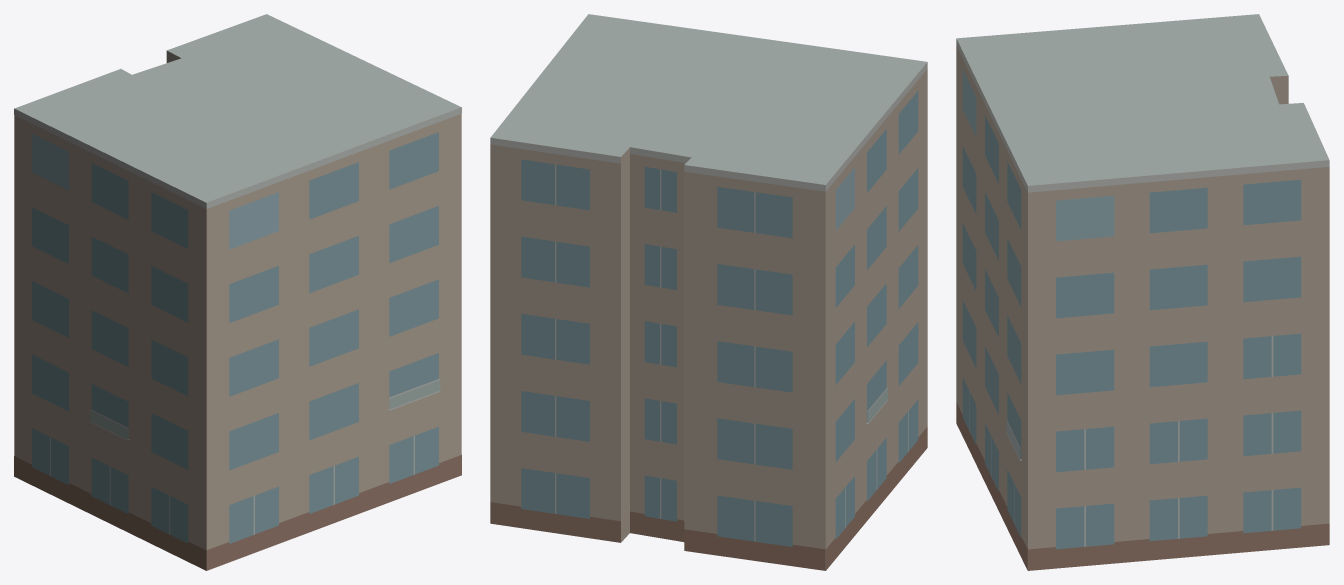
The model's file is survey-upis-32705560.glb.
The picture shows the model from 3 angles, left to right: view 1: azimuth 30°, elevation 25°; view 2: azimuth 150°, elevation 25°; view 3: azimuth 270°, elevation 25°; orthographic projection. The views are drawn at different scales.
Parts seen in each view (by area): view 1: survey-upis-32705560.tmp; view 2: survey-upis-32705560.tmp; view 3: survey-upis-32705560.tmp.
Boxes of the visible parts, x1,y1,x2,y2 form: survey-upis-32705560.tmp: (14,14,461,570); survey-upis-32705560.tmp: (490,14,927,570); survey-upis-32705560.tmp: (956,14,1329,570).
Size of the model in its own units: 13.49 by 14.07 by 12.37.
